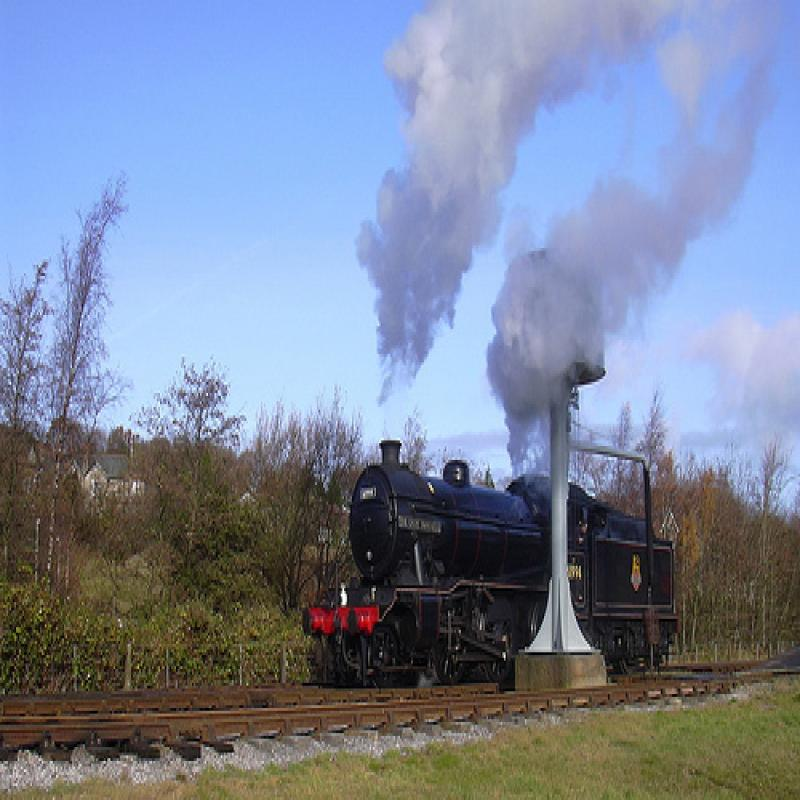train: (308, 447, 684, 698)
